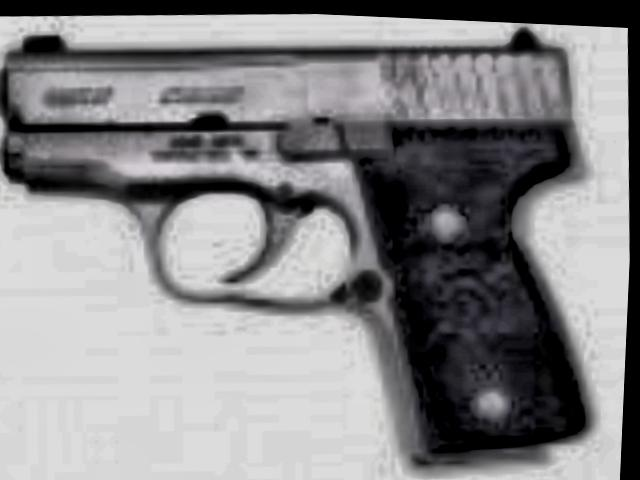pistol: (0, 0, 614, 480)
